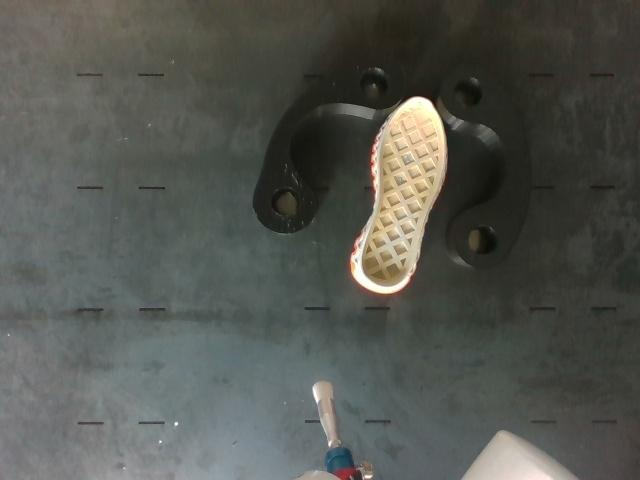shoes: (361, 99, 444, 288)
